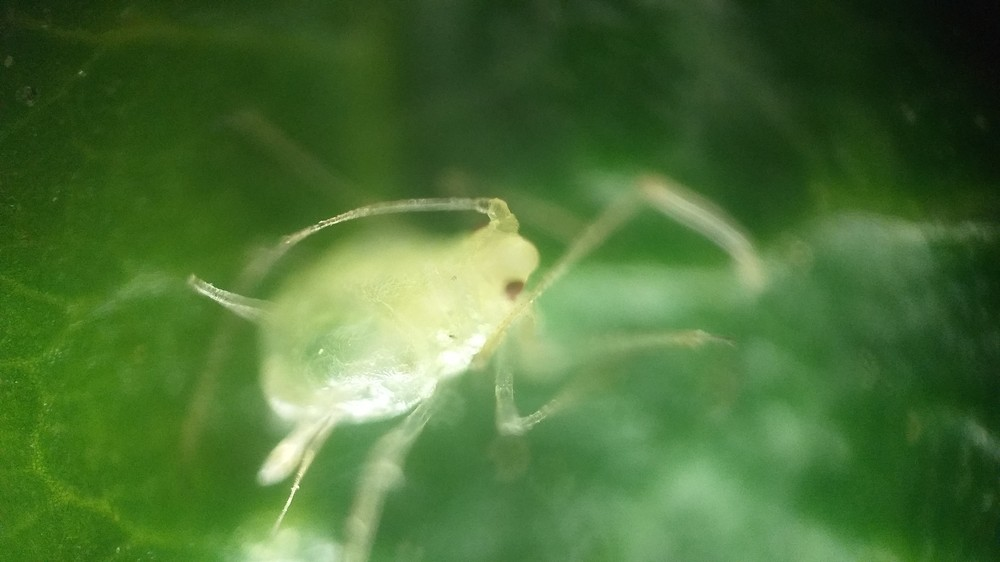Pulgon: (173, 116, 768, 534)
